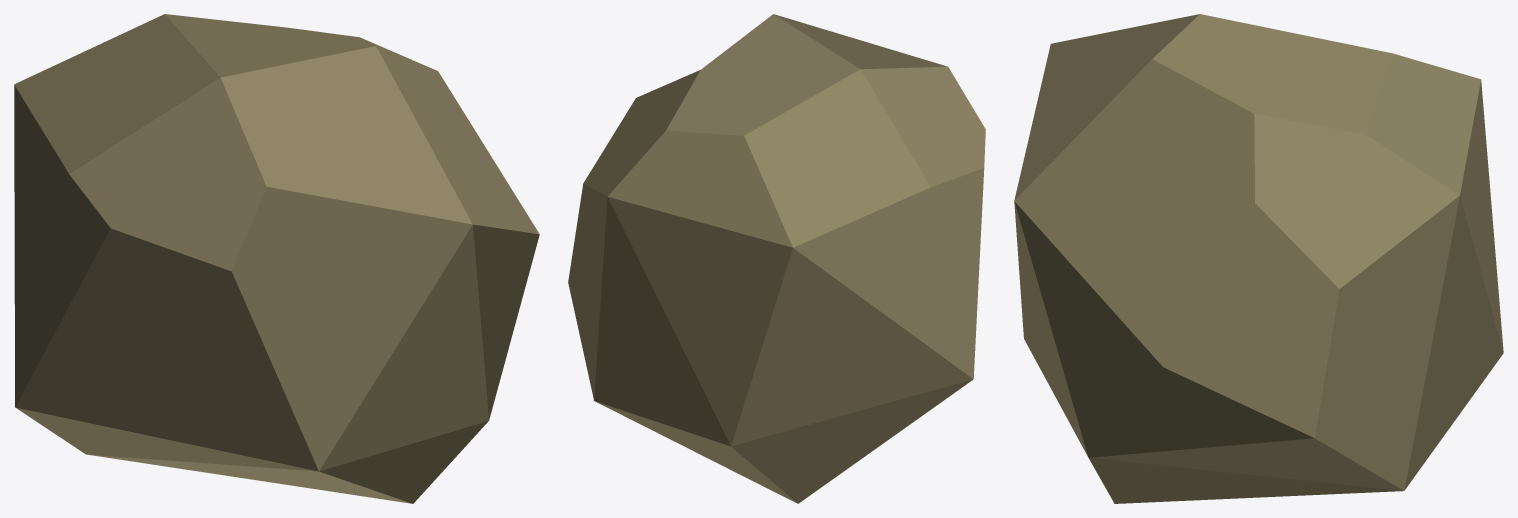
Rendered from Камень 3.fbx.
3 views of the same model, side by side, from view 1: azimuth 30°, elevation 25°; view 2: azimuth 150°, elevation 25°; view 3: azimuth 270°, elevation 25° (orthographic). The views are drawn at different scales.
Visible parts, largest first — view 1: Icosphere.003; view 2: Icosphere.003; view 3: Icosphere.003.
Part boxes in pixels (bbox=[...]): Icosphere.003: bbox=[14, 14, 539, 503]; Icosphere.003: bbox=[568, 14, 985, 503]; Icosphere.003: bbox=[1014, 14, 1503, 503].
Size of the model in its own units: 186 by 175 by 172.
